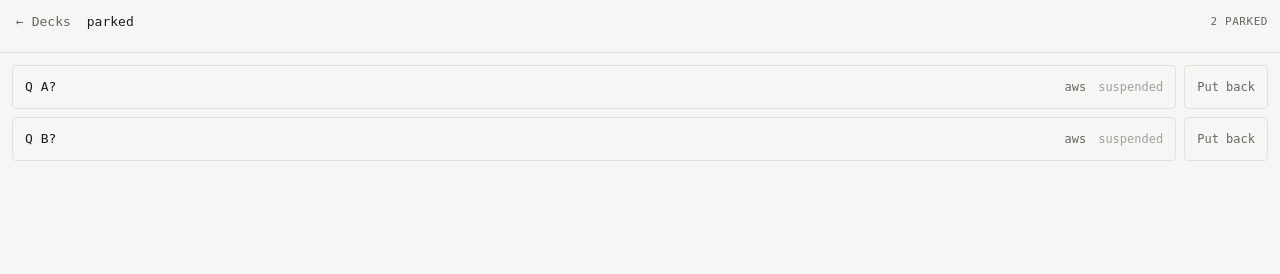
ReviewParked keeps a put-back while another write to the note is out (#1142) › #1142 B1 a put-back that fails at last while its re-read fails too shows the vault's text from a read that left before
Click the 1st button "Put back". click: (1226, 87)
box: [1184,65,1268,109]
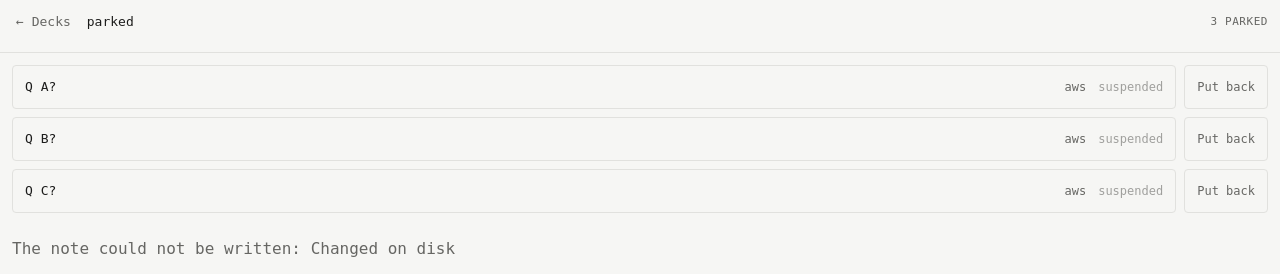
Expected: the text "Q C?" is shown, [25,183,56,198]
